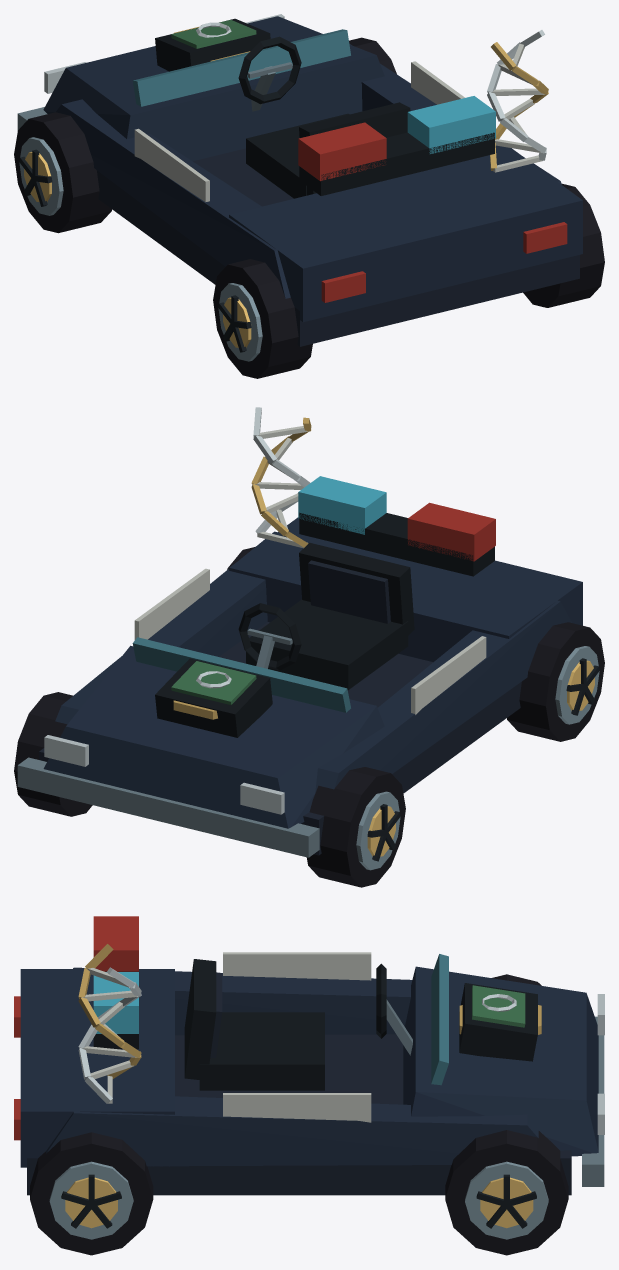
Rendered from kart.glb.
The picture shows the model from 3 angles, top to bottom: view 1: azimuth 30°, elevation 25°; view 2: azimuth 150°, elevation 25°; view 3: azimuth 270°, elevation 25°; orthographic projection. The views are drawn at different scales.
Visible parts, largest first — view 1: identity-police-car-police-car-road-car-body, wheel-front-left, wheel-rear-left, identity-police-car-driver-cockpit, identity-police-car-motif-scanner, identity-police-car-motif-dna, wheel-rear-right, wheel-front-right; view 2: identity-police-car-police-car-road-car-body, identity-police-car-driver-cockpit, wheel-front-left, wheel-rear-left, identity-police-car-motif-scanner, identity-police-car-motif-dna, wheel-front-right; view 3: identity-police-car-police-car-road-car-body, identity-police-car-driver-cockpit, wheel-front-right, wheel-rear-right, identity-police-car-motif-scanner, identity-police-car-motif-dna.
Part boxes in pixels (x1,y1,x2,y2): identity-police-car-police-car-road-car-body: (17, 14, 582, 346); wheel-front-left: (14, 112, 111, 233); wheel-rear-left: (213, 259, 312, 378); identity-police-car-driver-cockpit: (238, 36, 410, 198); identity-police-car-motif-scanner: (155, 18, 270, 71); identity-police-car-motif-dna: (487, 30, 548, 172); wheel-rear-right: (523, 183, 604, 307); wheel-front-right: (349, 37, 396, 74); identity-police-car-police-car-road-car-body: (17, 476, 582, 857); identity-police-car-driver-cockpit: (238, 542, 414, 690); wheel-front-left: (306, 767, 405, 887); wheel-rear-left: (507, 622, 604, 741); identity-police-car-motif-scanner: (155, 658, 272, 737); identity-police-car-motif-dna: (251, 407, 311, 548); wheel-front-right: (14, 692, 92, 816); identity-police-car-police-car-road-car-body: (14, 916, 604, 1195); identity-police-car-driver-cockpit: (184, 959, 412, 1090); wheel-front-right: (445, 1130, 568, 1255); wheel-rear-right: (30, 1132, 153, 1255); identity-police-car-motif-scanner: (459, 983, 537, 1061); identity-police-car-motif-dna: (78, 944, 141, 1103).
Bounding box in the file's own units: 2.07 × 1.47 × 2.88.
